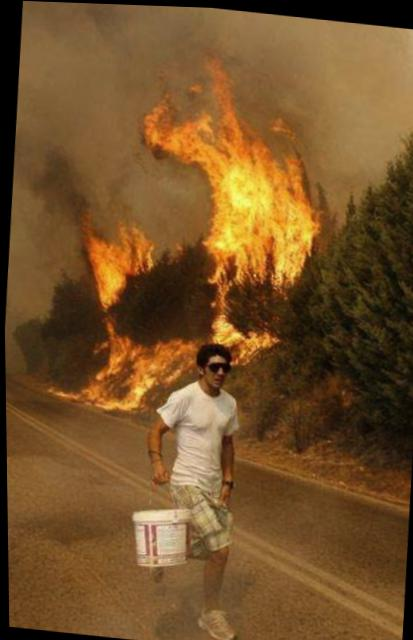fire: (67, 52, 321, 429)
